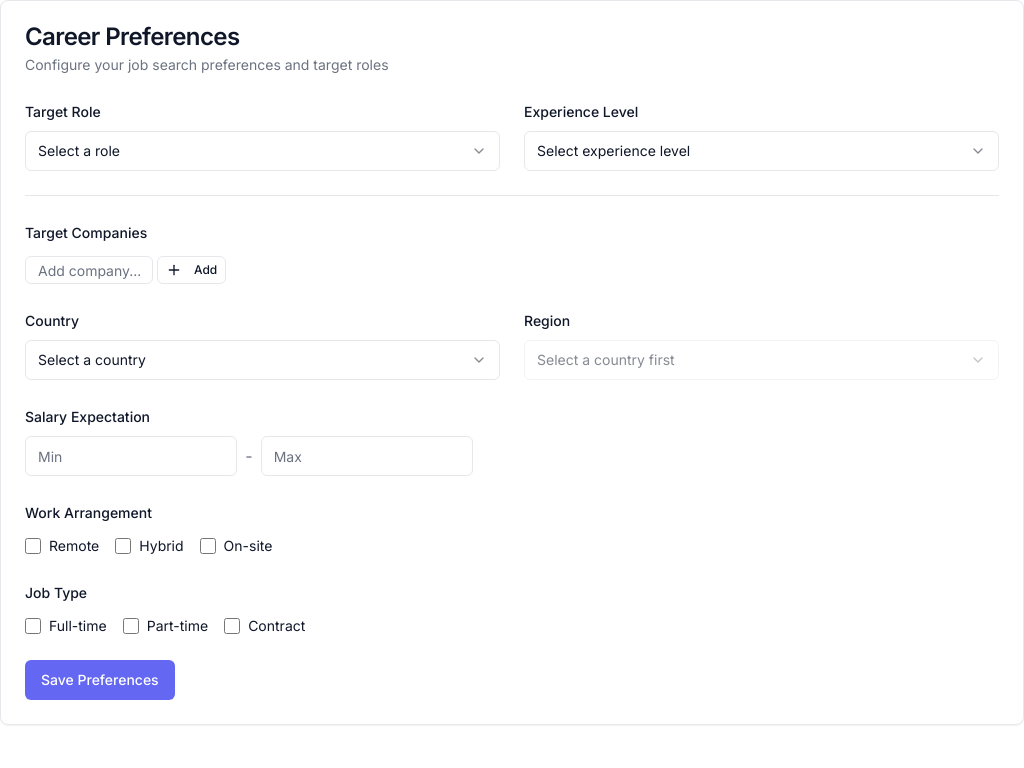
Test: CareerPreferencesTab - company management › should remove a company tag when its remove button is clicked
The width and height of the screenshot is (1024, 768).
Step 1. Type "Meta" into the field with placeholder "Add company..." → (89, 270), box [25, 256, 153, 284]
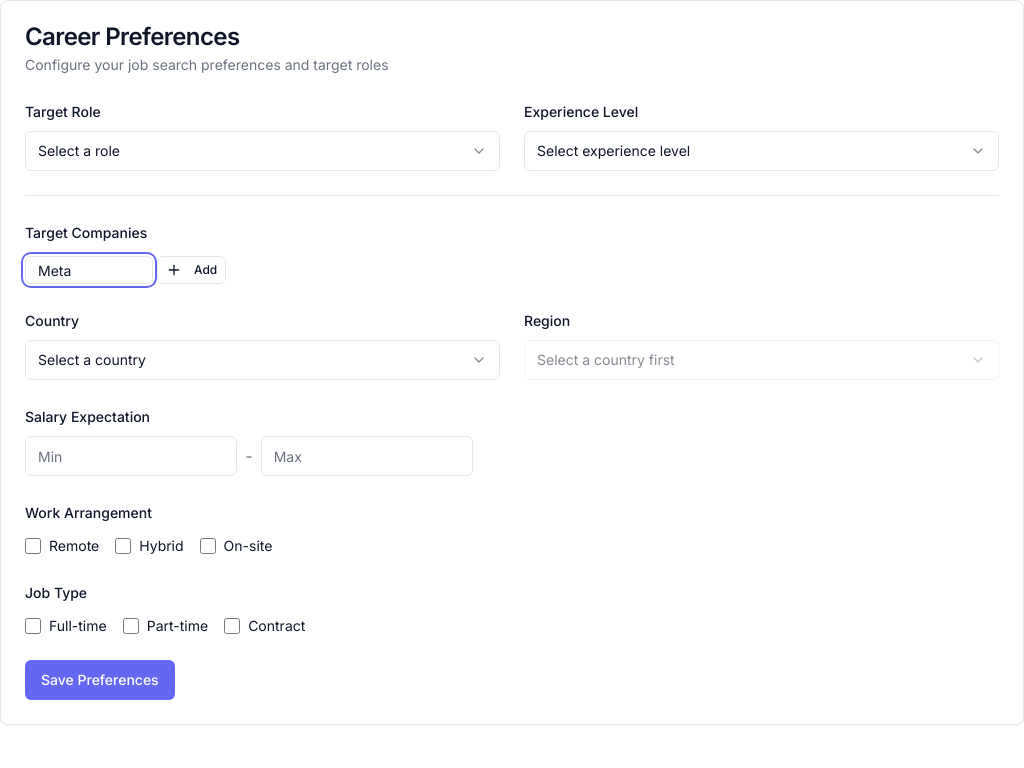
Step 2. Click the button "Add" → (192, 270), box [157, 256, 226, 284]
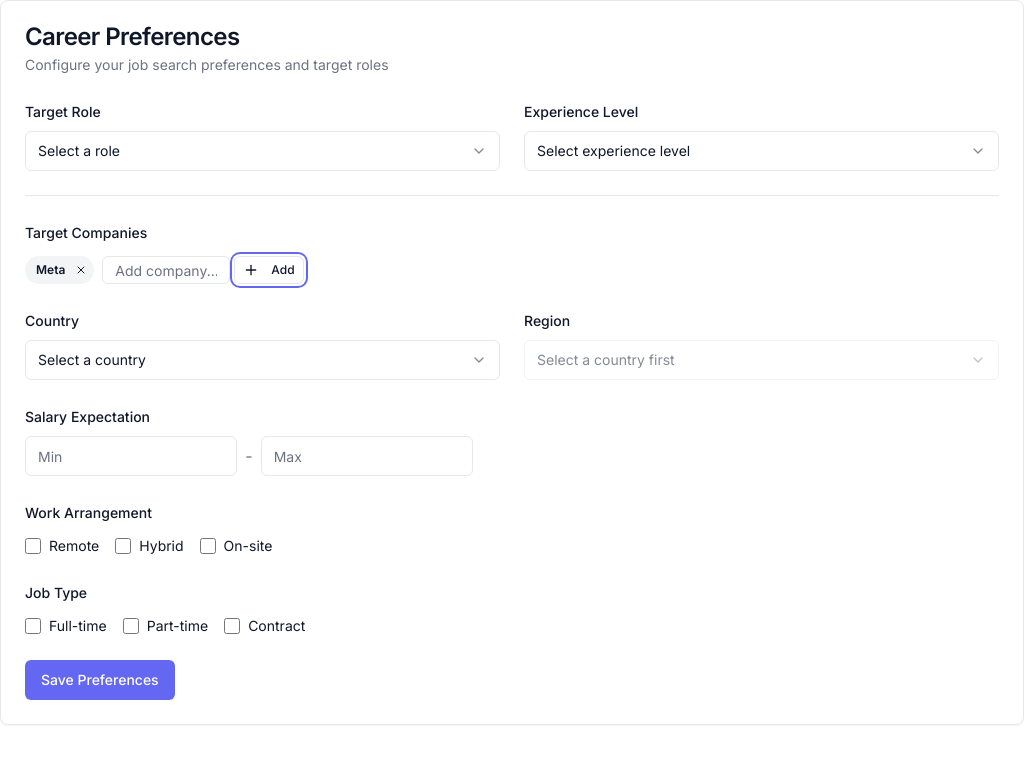
Now the text "Meta" is shown, box [25, 256, 94, 284]
// The X button is the only button inside the badge
Step 3. Click the 1st button → (81, 270), box [73, 262, 89, 278]
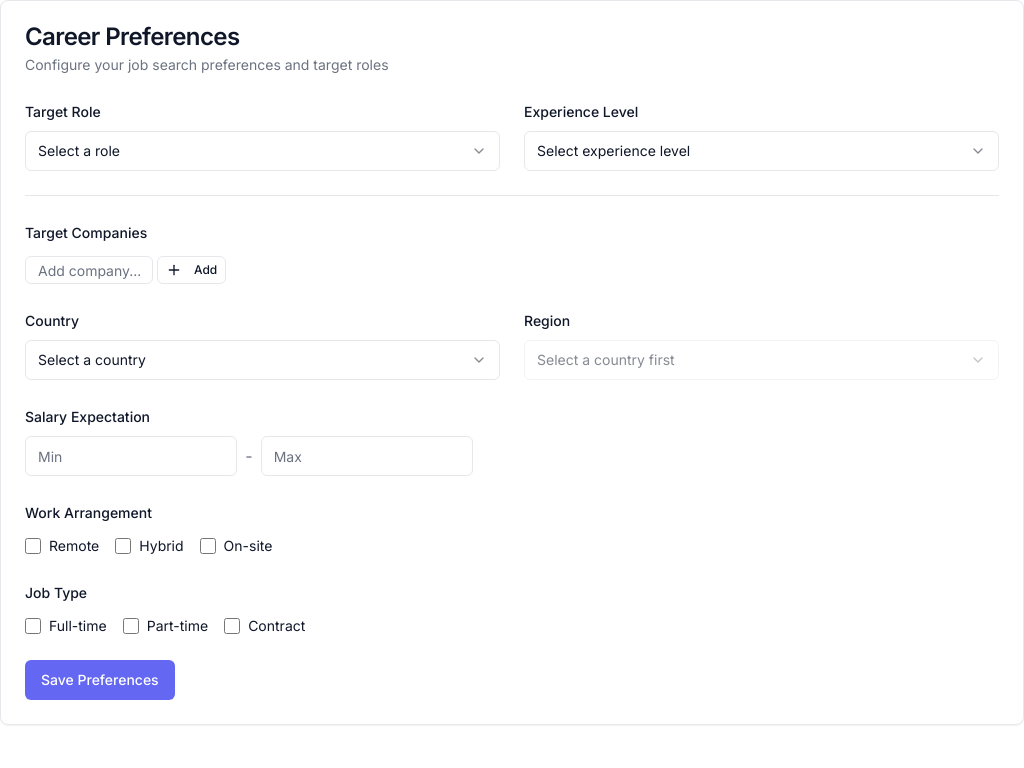
Now the text "Meta" is gone
